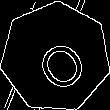O_NW: (24, 24, 87, 90)
